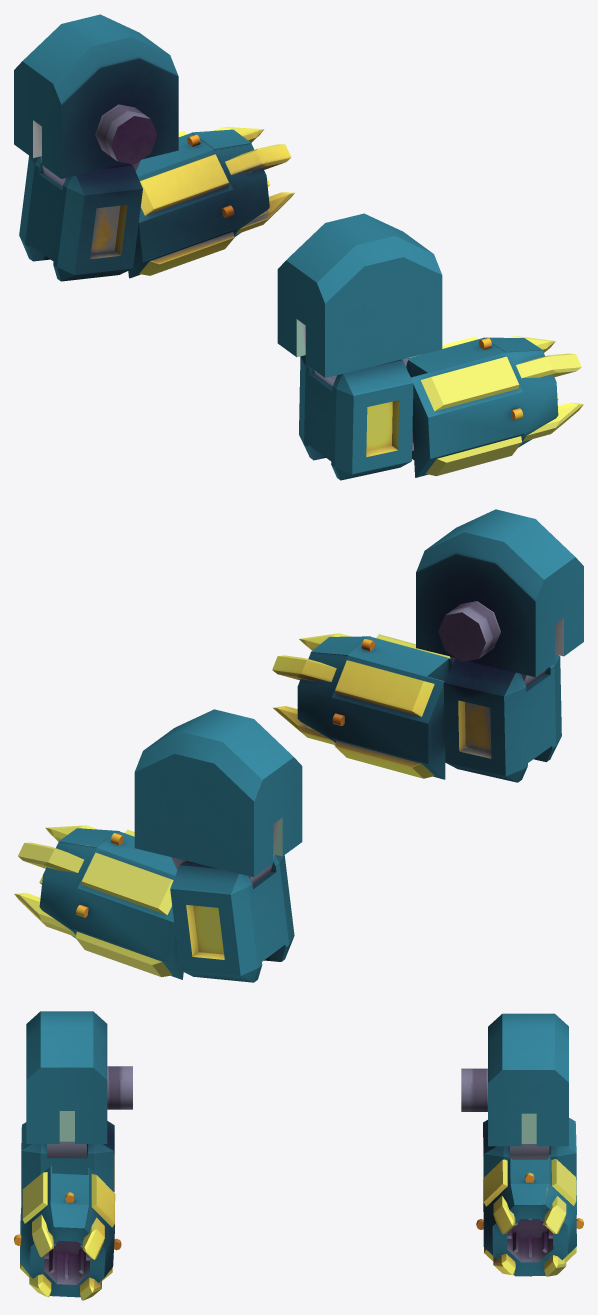
The model's file is Player_Attack_Arm20.obj.
3 views of the same model, one above another, from view 1: azimuth 30°, elevation 25°; view 2: azimuth 150°, elevation 25°; view 3: azimuth 270°, elevation 25° (orthographic). The views are drawn at different scales.
Parts seen in each view (by area): view 1: Object003, Object005, Object001, Object007, Object006, Object002; view 2: Object005, Object003, Object001, Object007, Object006, Object002; view 3: Object005, Object003, Object001, Object007, Object002, Object006.
Part boxes in pixels (x1,y1,x2,y2): Object003: (277, 213, 442, 377); Object005: (14, 14, 178, 178); Object001: (406, 336, 583, 477); Object007: (128, 127, 294, 278); Object006: (19, 155, 142, 281); Object002: (299, 355, 413, 480); Object005: (134, 709, 302, 877); Object003: (416, 509, 583, 677); Object001: (272, 633, 452, 779); Object007: (14, 825, 183, 979); Object006: (170, 854, 294, 982); Object002: (443, 654, 561, 782); Object005: (461, 1013, 568, 1146); Object003: (26, 1011, 132, 1143); Object001: (14, 1166, 121, 1300); Object007: (476, 1155, 583, 1276); Object002: (21, 1121, 114, 1200); Object006: (483, 1118, 576, 1214).
Bounding box in the file's own units: 38.72 × 35.44 × 83.71.
1 material, 1 textured.
